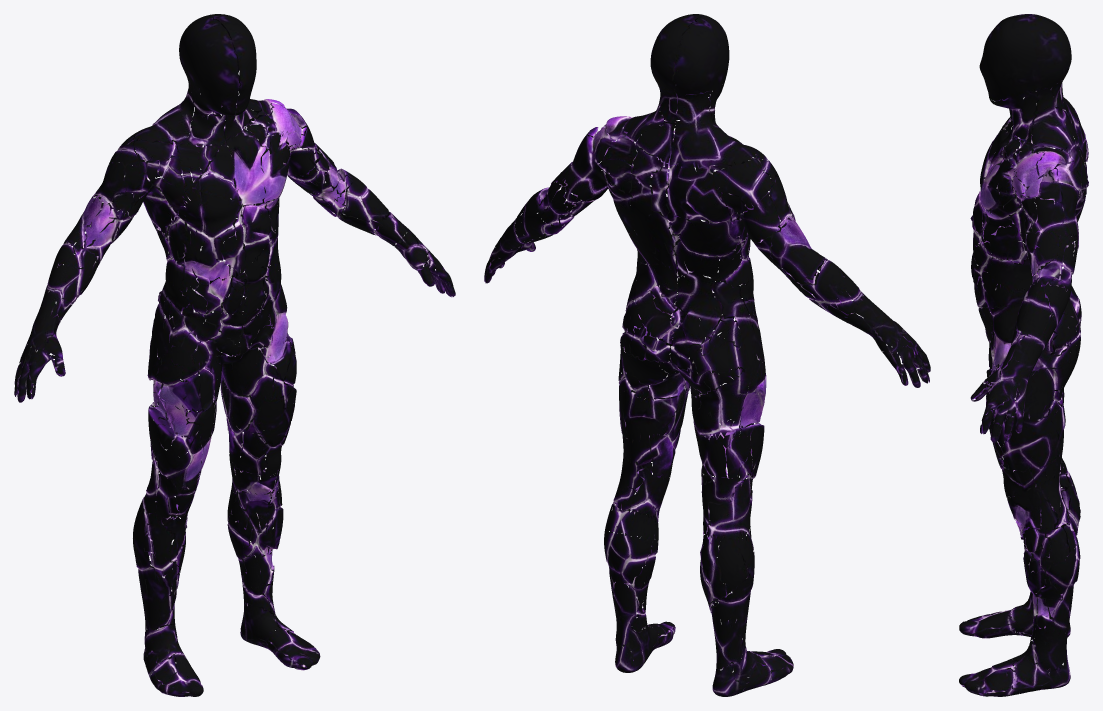
File: echo.glb
The picture shows the model from 3 angles, left to right: view 1: azimuth 30°, elevation 25°; view 2: azimuth 150°, elevation 25°; view 3: azimuth 270°, elevation 25°; orthographic projection.
Size of the model in its own units: 1.35 by 1.9 by 0.3477.
1 material, 1 textured.
